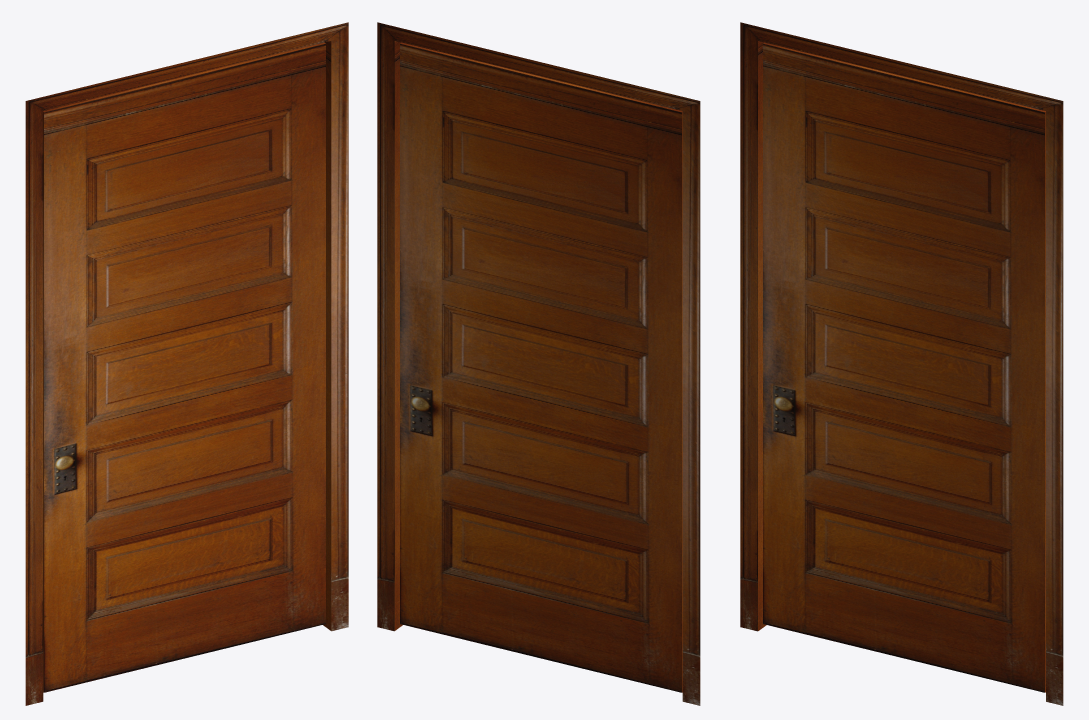
File: InteriorDoor.gltf
3 renders of one model, left to right at view 1: azimuth 30°, elevation 25°; view 2: azimuth 150°, elevation 25°; view 3: azimuth 330°, elevation 25°, orthographic.
Parts seen in each view (by area): view 1: InteriorDoor, InteriorDoorProfile; view 2: InteriorDoor, InteriorDoorProfile; view 3: InteriorDoor, InteriorDoorProfile.
Boxes of the visible parts, x1,y1,x2,y2 form: InteriorDoor: (43,42,325,692); InteriorDoorProfile: (25,22,348,705); InteriorDoor: (400,42,682,692); InteriorDoorProfile: (377,22,700,705); InteriorDoor: (763,42,1045,692); InteriorDoorProfile: (740,22,1063,705).
Bounding box in the file's own units: 1.32 × 2.36 × 0.0798.
1 material, 1 textured.
